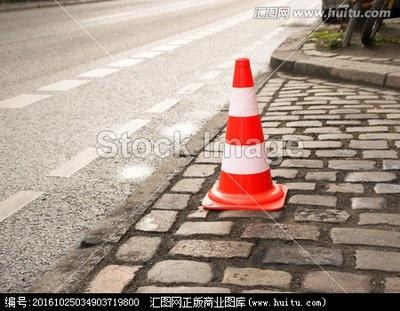cone_barrel: (202, 58, 288, 206)
